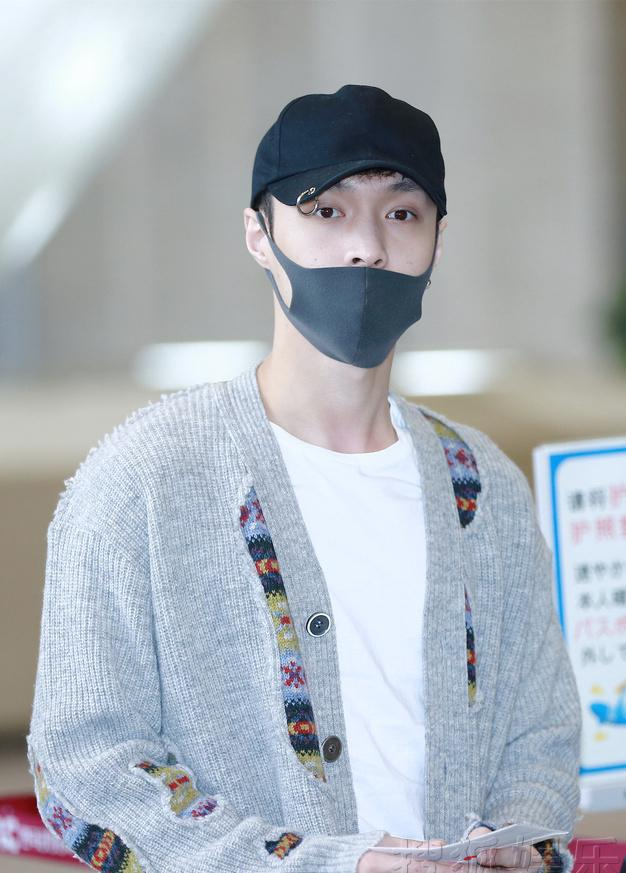face_mask: (274, 118, 434, 364)
